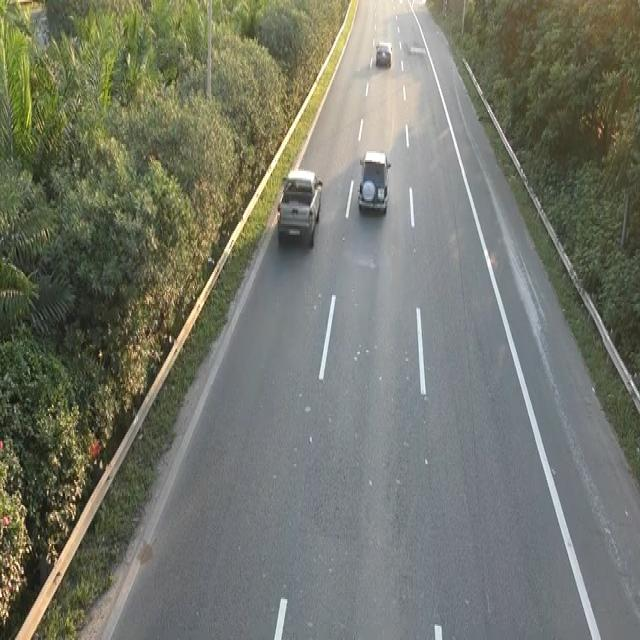bus: (374, 39, 392, 68)
car: (275, 165, 323, 247), (356, 146, 391, 215)
